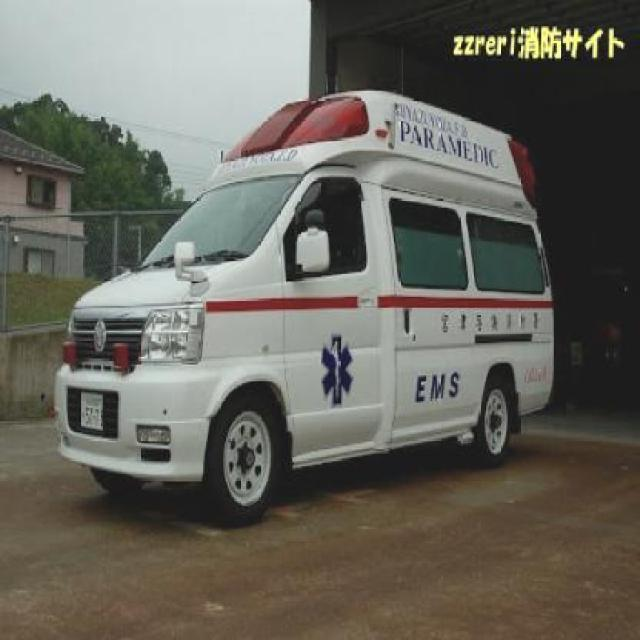Ambulance: (39, 73, 575, 485)
